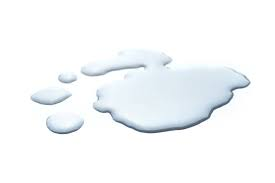Wet-floor: (27, 42, 254, 143)
